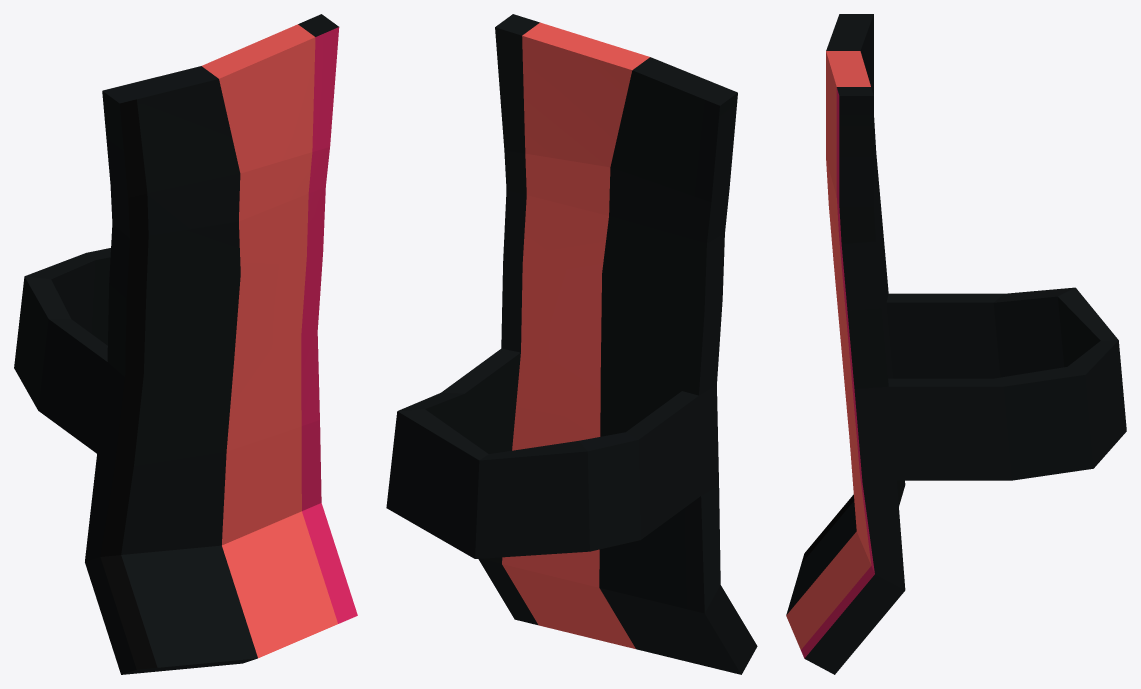
File: Goalkeeper_1_Pad_Left.fbx
The picture shows the model from 3 angles, left to right: view 1: azimuth 30°, elevation 25°; view 2: azimuth 150°, elevation 25°; view 3: azimuth 270°, elevation 25°; orthographic projection. The views are drawn at different scales.
Parts seen in each view (by area): view 1: Goalkeeper_1_Pad_Left; view 2: Goalkeeper_1_Pad_Left; view 3: Goalkeeper_1_Pad_Left.
Part boxes in pixels (bbox=[...]): Goalkeeper_1_Pad_Left: bbox=[14, 14, 357, 674]; Goalkeeper_1_Pad_Left: bbox=[386, 14, 757, 674]; Goalkeeper_1_Pad_Left: bbox=[786, 14, 1126, 674].
Bounding box in the file's own units: 21.68 × 56.29 × 29.58.
